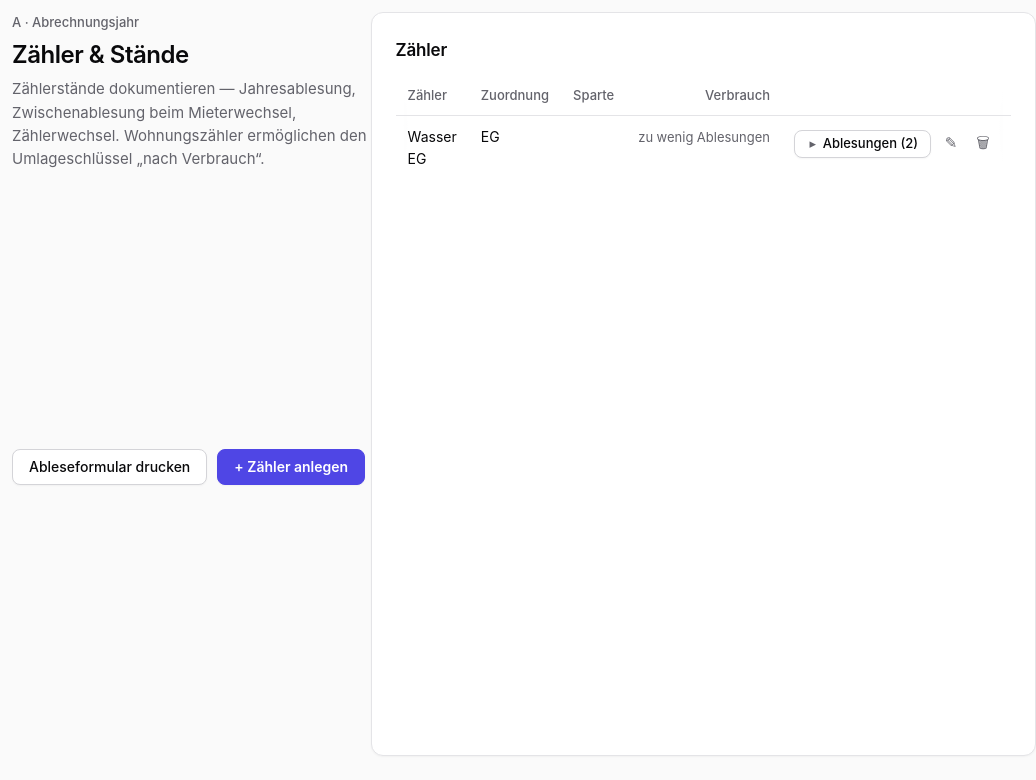
Test case: Zählerwechsel ohne Endstand: die Tabelle sagt „fehlt“ statt eines leeren Werts (#142)
The image size is (1036, 780).
What coordinates should you click on to do the following:
click the button "Ablesungen (2)"
I would click on:
 (863, 144)
Its box is [794,130,931,158].
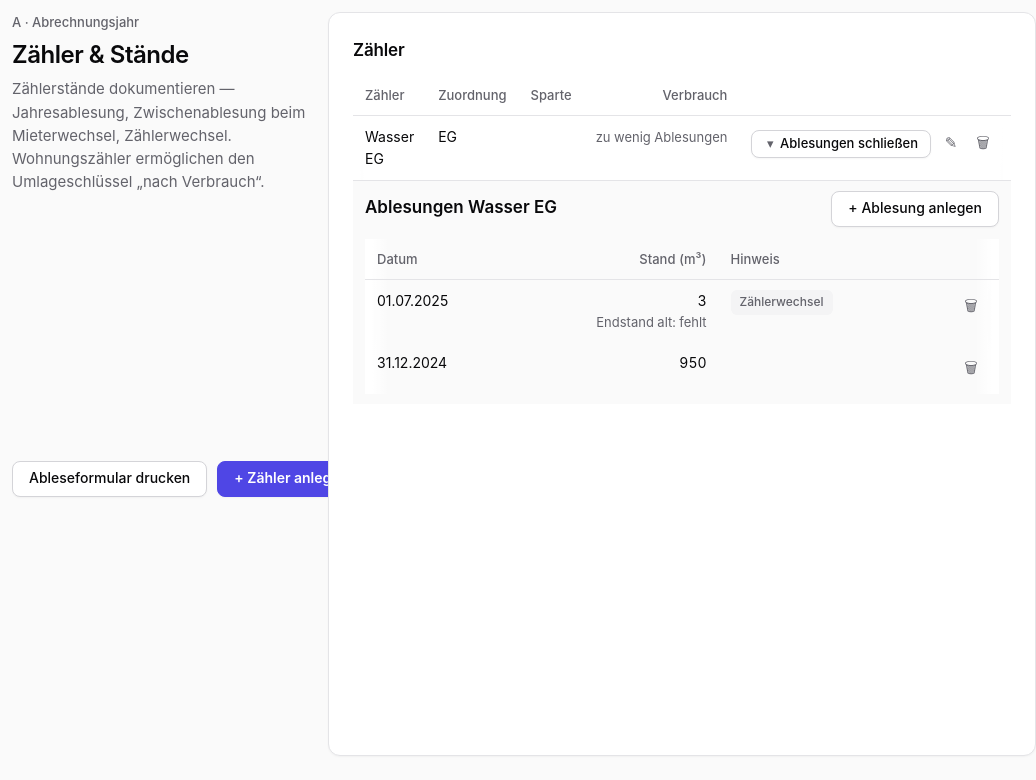
expect the text "Endstand alt: fehlt" is shown: met, box [596,314,707,330]
